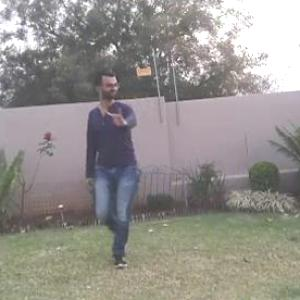takeoff-hand: (100, 99, 133, 134)
